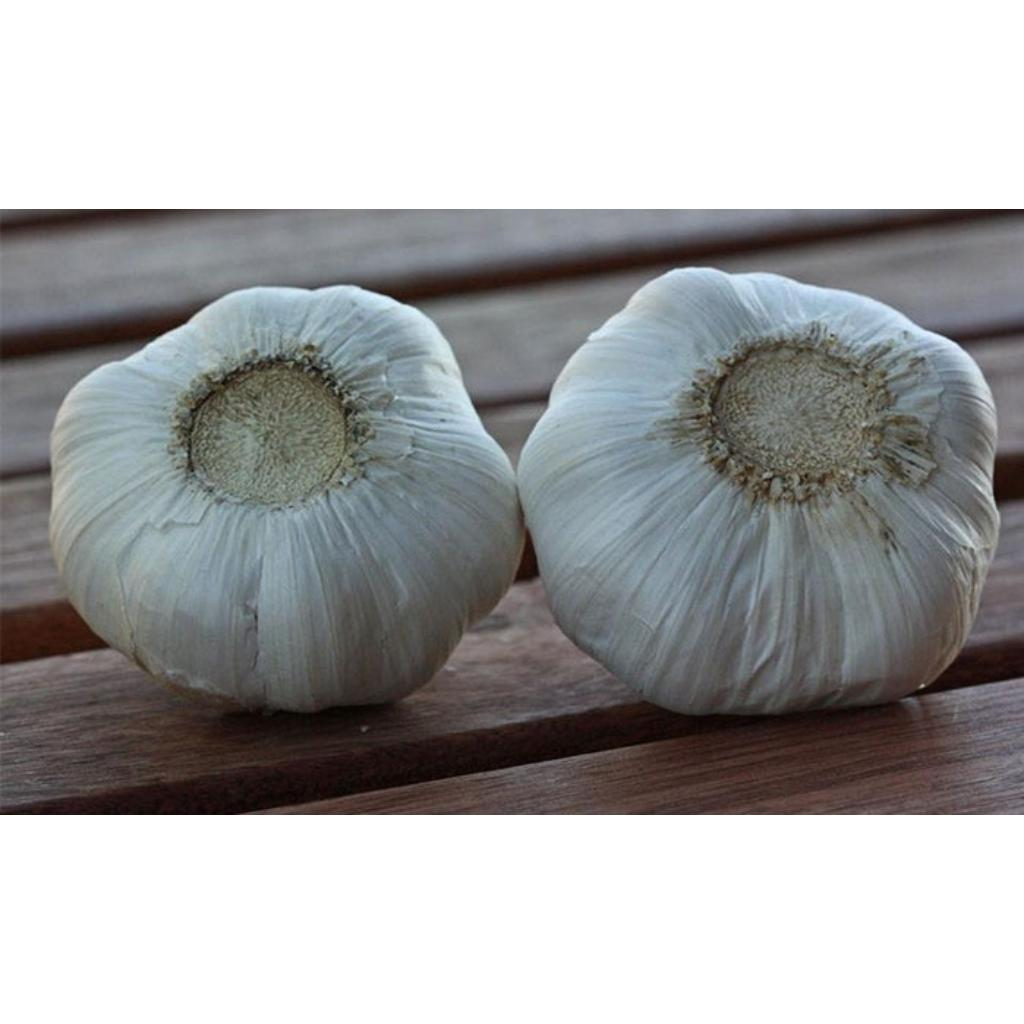garlic: (517, 268, 995, 711), (50, 285, 520, 709)
